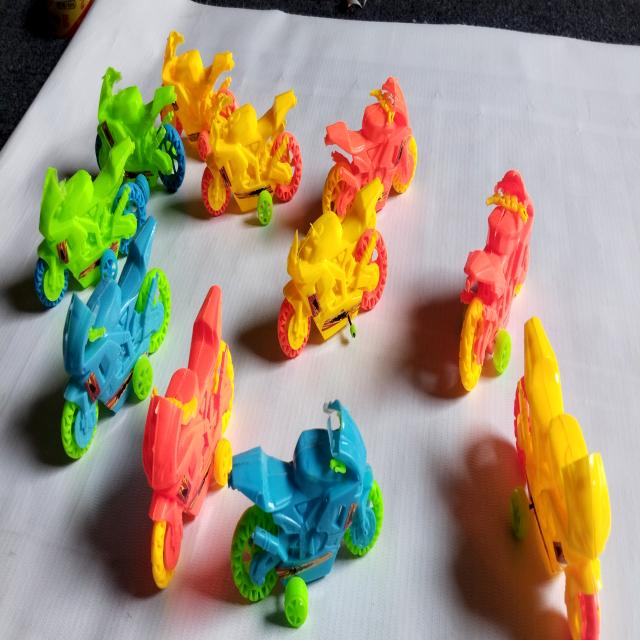bikes: (228, 400, 382, 627), (510, 317, 610, 640), (143, 285, 234, 588), (61, 217, 170, 458), (278, 180, 387, 356), (35, 140, 145, 307), (459, 170, 534, 391), (322, 77, 417, 217), (199, 90, 302, 215), (95, 67, 185, 193), (162, 31, 238, 161), (143, 187, 149, 200)
